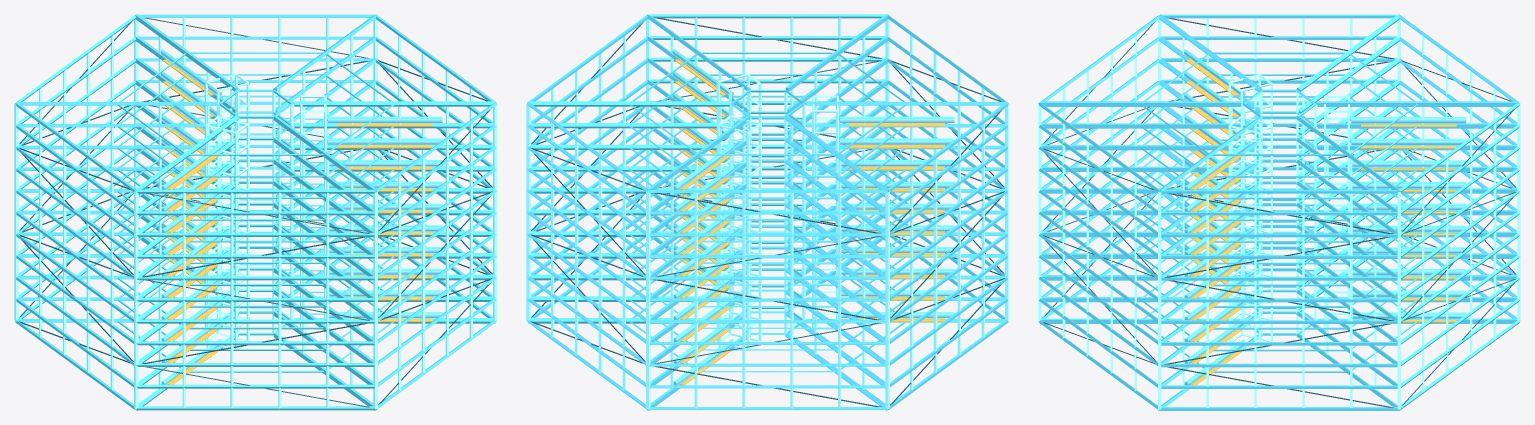
The model's file is home-estructura.glb.
The picture shows the model from 3 angles, left to right: view 1: azimuth 30°, elevation 25°; view 2: azimuth 150°, elevation 25°; view 3: azimuth 270°, elevation 25°; orthographic projection.
Visible parts, largest first — view 1: anillo_10_lado_4, viga_radial_10_4, anillo_0_lado_4, anillo_9_lado_4, anillo_3_lado_4, anillo_6_lado_4, anillo_1_lado_4, anillo_4_lado_4, anillo_7_lado_4, perimetro_pilar_4, perimetro_pilar_5, perimetro_pilar_6 (+92 smaller); view 2: viga_radial_10_5, anillo_10_lado_5, viga_radial_9_5, perimetro_pilar_3, perimetro_pilar_2, perimetro_pilar_1, perimetro_pilar_4, perimetro_montante_1_3, viga_radial_8_5, anillo_8_lado_2, anillo_5_lado_2, anillo_2_lado_2 (+92 smaller); view 3: viga_radial_10_3, viga_radial_10_0, anillo_5_lado_6, anillo_8_lado_6, anillo_2_lado_6, anillo_9_lado_6, anillo_6_lado_6, anillo_10_lado_3, viga_radial_9_3, viga_radial_8_3, anillo_10_lado_6, anillo_0_lado_6 (+96 smaller).
Part boxes in pixels (left/top/right/bottom): anillo_10_lado_4: left=136, top=189, right=375, bottom=193; viga_radial_10_4: left=294, top=101, right=495, bottom=106; anillo_0_lado_4: left=136, top=406, right=375, bottom=410; anillo_9_lado_4: left=136, top=211, right=374, bottom=215; anillo_3_lado_4: left=136, top=341, right=374, bottom=345; anillo_6_lado_4: left=136, top=276, right=374, bottom=280; anillo_1_lado_4: left=136, top=384, right=374, bottom=388; anillo_4_lado_4: left=136, top=319, right=374, bottom=323; anillo_7_lado_4: left=137, top=254, right=374, bottom=258; perimetro_pilar_4: left=134, top=191, right=138, bottom=409; perimetro_pilar_5: left=373, top=191, right=377, bottom=409; perimetro_pilar_6: left=493, top=104, right=497, bottom=321; viga_radial_10_5: left=528, top=101, right=729, bottom=106; anillo_10_lado_5: left=648, top=14, right=885, bottom=18; viga_radial_9_5: left=530, top=123, right=728, bottom=128; perimetro_pilar_3: left=885, top=191, right=889, bottom=409; perimetro_pilar_2: left=646, top=191, right=650, bottom=409; perimetro_pilar_1: left=526, top=104, right=530, bottom=320; perimetro_pilar_4: left=1005, top=103, right=1009, bottom=321; perimetro_montante_1_3: left=598, top=157, right=602, bottom=372; viga_radial_8_5: left=530, top=144, right=728, bottom=149; anillo_8_lado_2: left=649, top=233, right=887, bottom=236; anillo_5_lado_2: left=649, top=298, right=887, bottom=301; anillo_2_lado_2: left=649, top=363, right=887, bottom=366; viga_radial_10_3: left=1040, top=101, right=1241, bottom=106; viga_radial_10_0: left=1317, top=101, right=1518, bottom=106; anillo_5_lado_6: left=1161, top=298, right=1397, bottom=302; anillo_8_lado_6: left=1161, top=233, right=1397, bottom=237; anillo_2_lado_6: left=1161, top=363, right=1397, bottom=367; anillo_9_lado_6: left=1161, top=211, right=1397, bottom=215; anillo_6_lado_6: left=1161, top=276, right=1397, bottom=280; anillo_10_lado_3: left=1162, top=14, right=1396, bottom=18; viga_radial_9_3: left=1041, top=123, right=1240, bottom=128; viga_radial_8_3: left=1041, top=145, right=1240, bottom=150; anillo_10_lado_6: left=1159, top=190, right=1399, bottom=193; anillo_0_lado_6: left=1159, top=407, right=1399, bottom=410.
Bounding box in the file's own units: 87.3 × 51.06 × 101.
